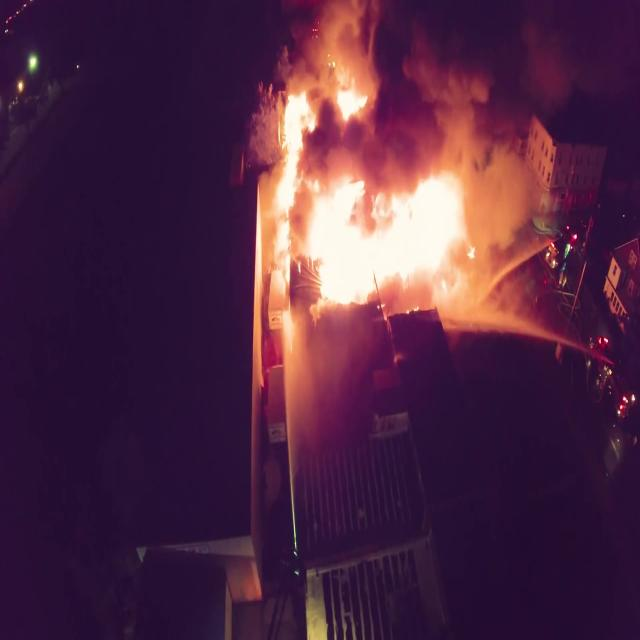Fire: (268, 84, 476, 329)
Smoke: (265, 0, 566, 251)
